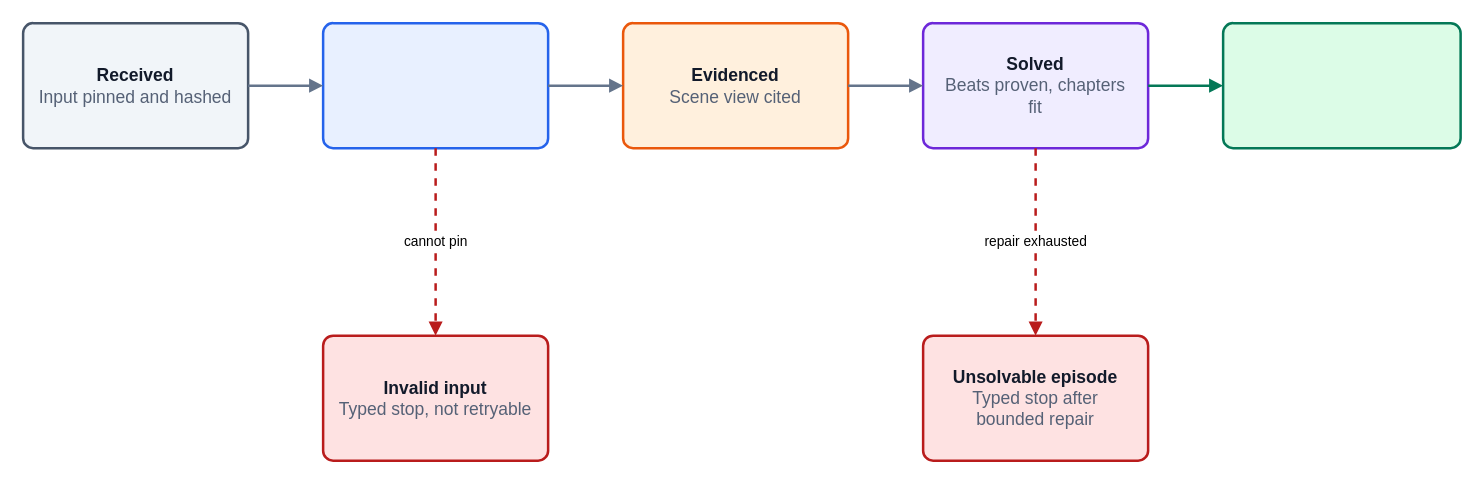
The diagram is 1483 pixels wide and 483 high, and some of its shapes have lost their labels. Here are the shapes that lost their labels. From the top down, the centre of each, then its label:
point 435,85: Scoped Policy compiled, budgets set
point 1341,85: Verified All hard gates passed
